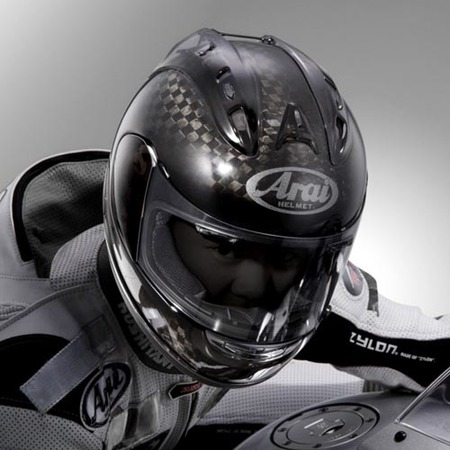helmet: (103, 29, 367, 389)
